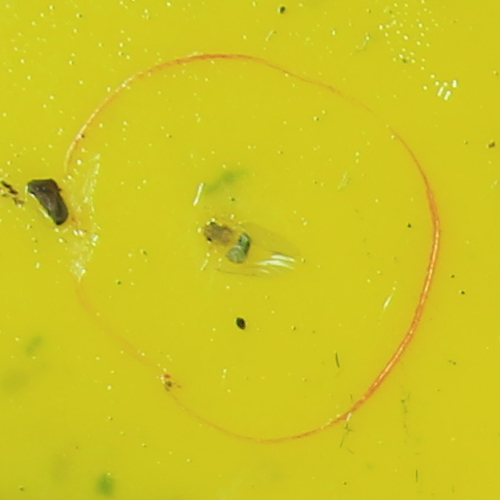psylla: (200, 220, 253, 260)
